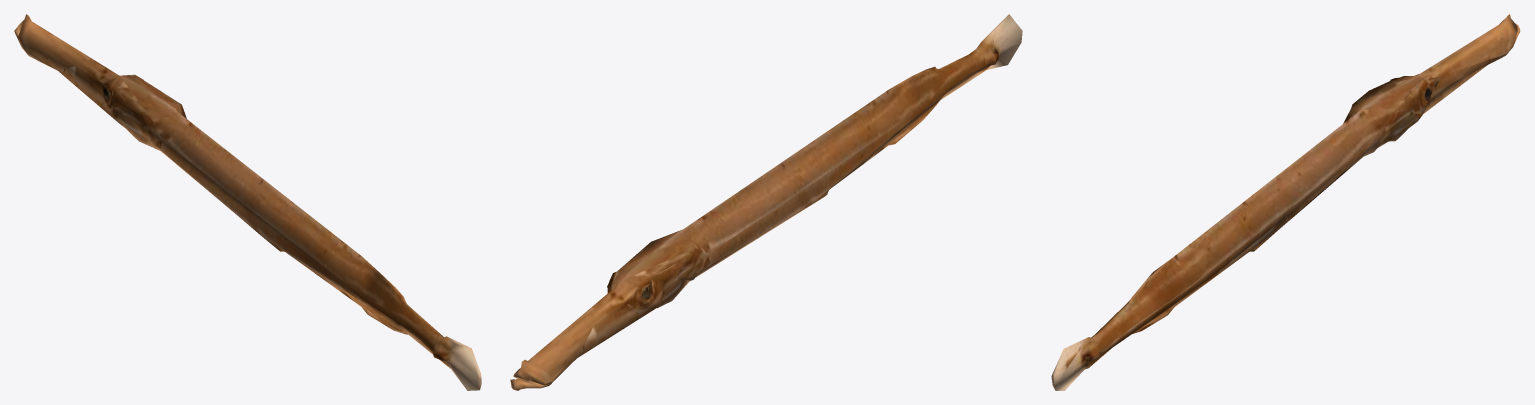
Rendered from trompetvis-ver.glb.
3 views of the same model, side by side, from view 1: azimuth 30°, elevation 25°; view 2: azimuth 150°, elevation 25°; view 3: azimuth 330°, elevation 25° (orthographic). The views are drawn at different scales.
Parts seen in each view (by area): view 1: tripo_node_c0463f0f-d293-4337-b18c-1b752de917ff; view 2: tripo_node_c0463f0f-d293-4337-b18c-1b752de917ff; view 3: tripo_node_c0463f0f-d293-4337-b18c-1b752de917ff.
Part boxes in pixels (left/top/right/bottom): tripo_node_c0463f0f-d293-4337-b18c-1b752de917ff: left=14, top=14, right=481, bottom=390; tripo_node_c0463f0f-d293-4337-b18c-1b752de917ff: left=510, top=14, right=1022, bottom=390; tripo_node_c0463f0f-d293-4337-b18c-1b752de917ff: left=1051, top=14, right=1520, bottom=390.
Bounding box in the file's own units: 0.2305 × 0.3415 × 4.36.
Materials: 1 (1 with a texture image).
